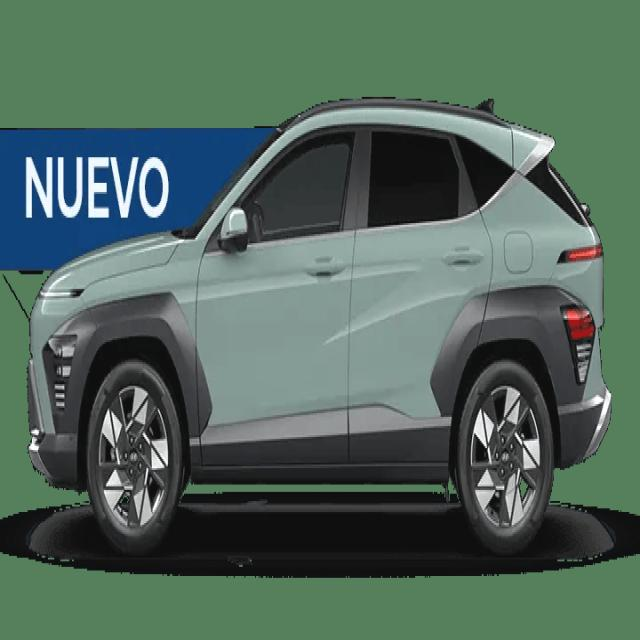SUV: (16, 92, 611, 553)
